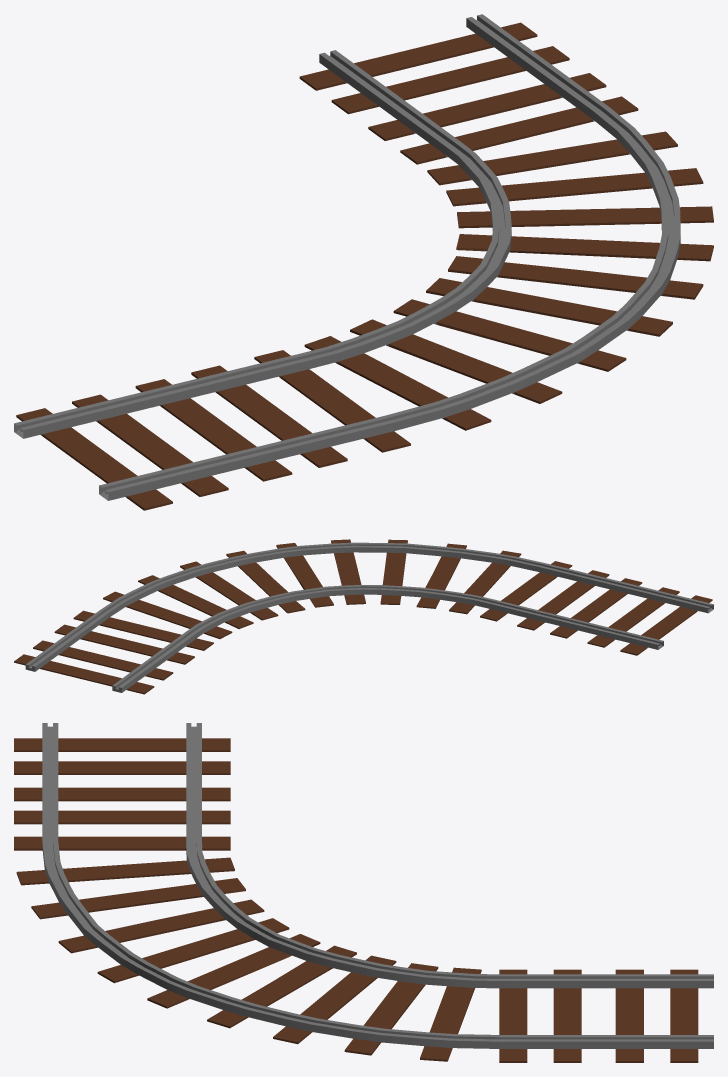
File: railroad-track-curved-piece.fbx
3 views of the same model, one above another, from view 1: azimuth 30°, elevation 25°; view 2: azimuth 150°, elevation 25°; view 3: azimuth 270°, elevation 25° (orthographic). The views are drawn at different scales.
Visible parts, largest first — view 1: railroad-track-curved-piece; view 2: railroad-track-curved-piece; view 3: railroad-track-curved-piece.
Part boxes in pixels (x1,y1,x2,y2): railroad-track-curved-piece: (14, 14, 713, 510); railroad-track-curved-piece: (14, 539, 713, 694); railroad-track-curved-piece: (14, 723, 713, 1062).
Size of the model in its own units: 16.17 by 0.209 by 14.47.
